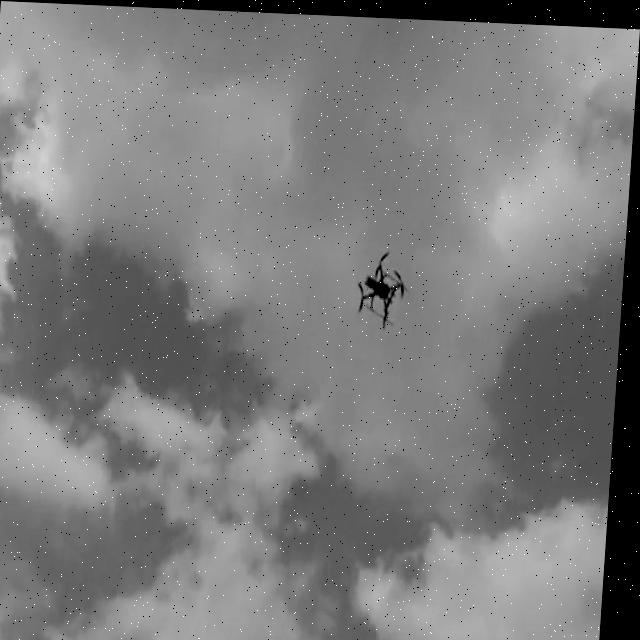drone: (355, 241, 413, 323)
